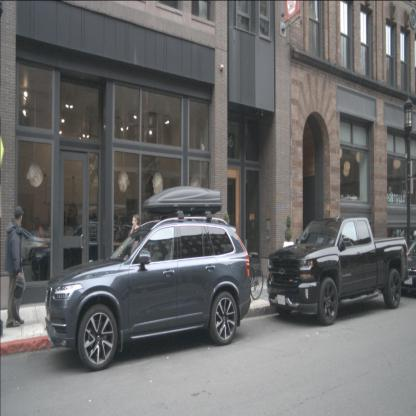human-pedestrian-adult: (3, 205, 26, 328), (129, 214, 143, 307), (31, 216, 45, 284)
vehicle-bicycle: (226, 252, 264, 300)
vehicle-car: (45, 219, 251, 372), (31, 222, 153, 298), (17, 229, 71, 266), (0, 226, 47, 267), (394, 238, 416, 297)
vehicle-truck: (267, 216, 408, 326)
